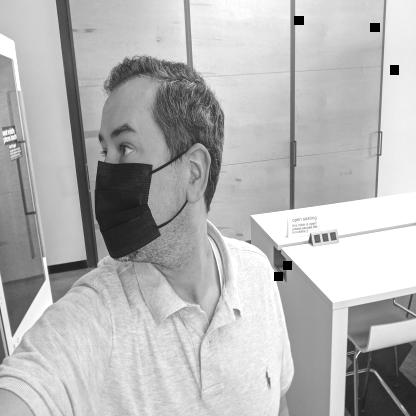mask: (93, 88, 195, 262)
